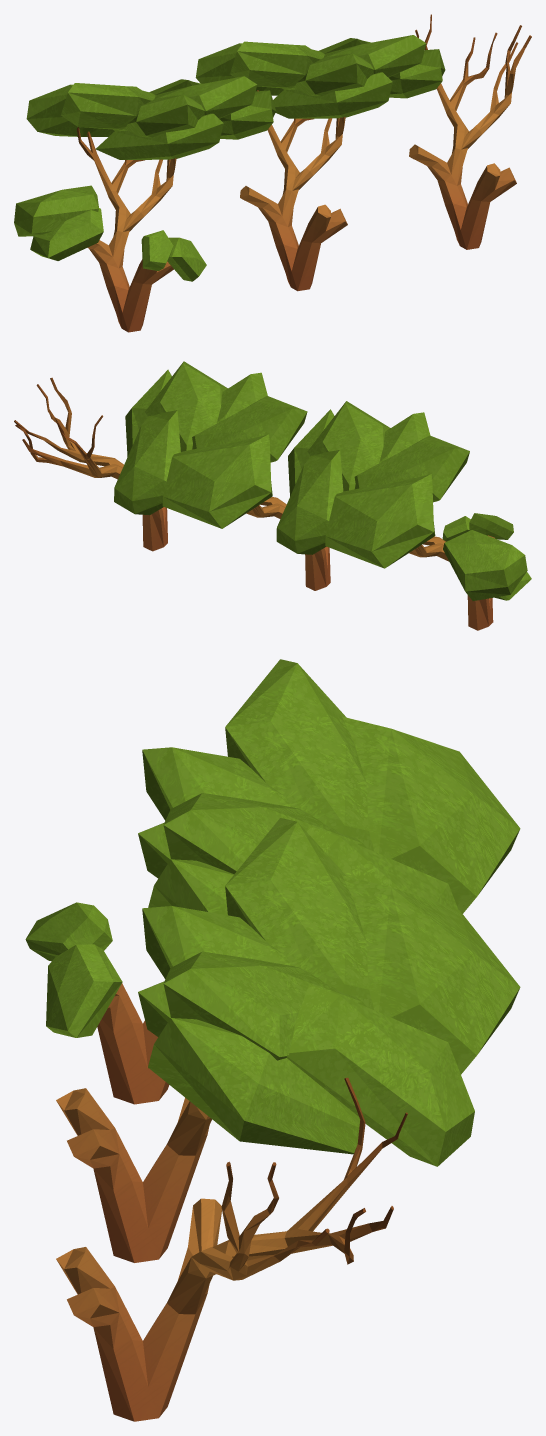
Rendered from Trees.obj.
3 renders of one model, top to bottom at view 1: azimuth 30°, elevation 25°; view 2: azimuth 150°, elevation 25°; view 3: azimuth 270°, elevation 25°, orthographic. The views are drawn at different scales.
Visible parts, largest first — view 1: Tree_01, Tree_02, Tree_Dead; view 2: Tree_01, Tree_02, Tree_Dead; view 3: Tree_02, Tree_01, Tree_Dead.
Boxes of the visible parts, x1=… form: Tree_01: x1=14, y1=76, x2=276, y2=332; Tree_02: x1=195, y1=35, x2=445, y2=291; Tree_Dead: x1=409, y1=14, x2=531, y2=249; Tree_01: x1=276, y1=401, x2=531, y2=630; Tree_02: x1=114, y1=361, x2=330, y2=590; Tree_Dead: x1=14, y1=377, x2=167, y2=551; Tree_02: x1=56, y1=818, x2=520, y2=1262; Tree_01: x1=25, y1=659, x2=520, y2=1104; Tree_Dead: x1=56, y1=1077, x2=407, y2=1421.
Bounding box in the file's own units: 6.04 × 2.45 × 2.64.
1 material, 1 textured.
